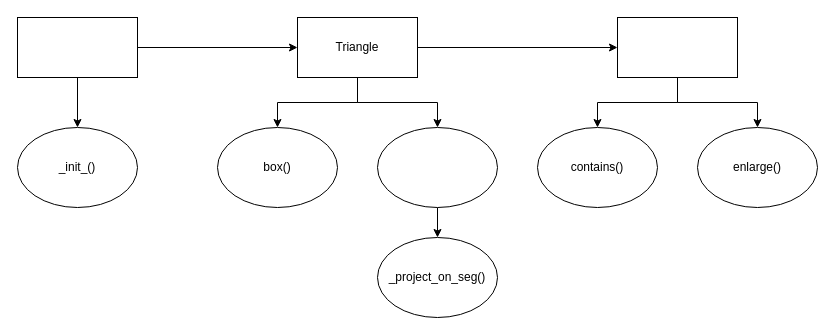
Image size: 835x335. Some labels were removed from this diagram. The shapes that lost their labels are listed below. From the top down, each one's box as (x1, y1, x2, y2) in pixels, then its label:
(16, 16, 138, 78): Meshgrid
(616, 16, 738, 78): BoundingBox
(376, 126, 498, 208): closest_distance_to()
